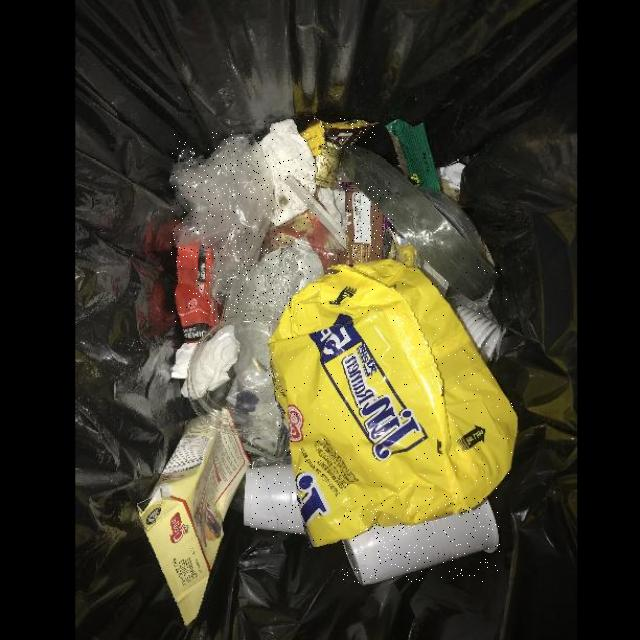paper: (137, 406, 250, 626), (260, 119, 317, 225)
plastic: (170, 132, 303, 321), (342, 497, 500, 583), (244, 463, 306, 534)
wrapper: (268, 257, 518, 546), (176, 246, 224, 342), (340, 183, 395, 263), (301, 118, 377, 155)
